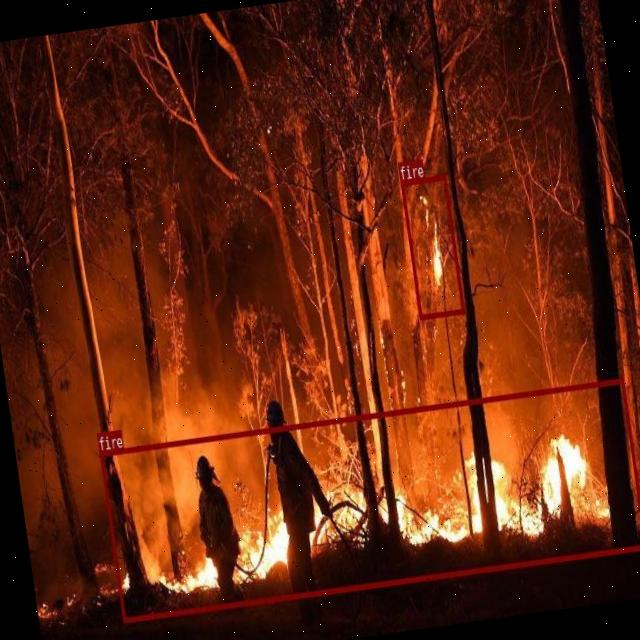fire: (99, 377, 640, 622), (400, 174, 464, 318)
